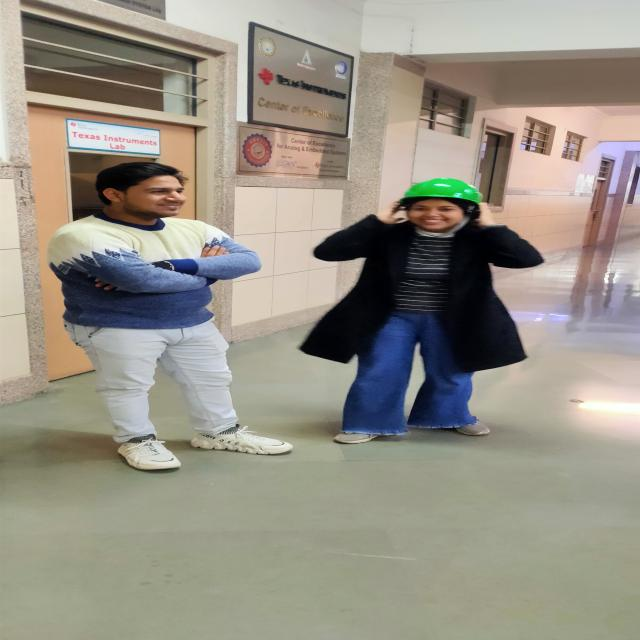no jacket: (314, 168, 537, 448)
unsafe: (48, 157, 296, 476)
